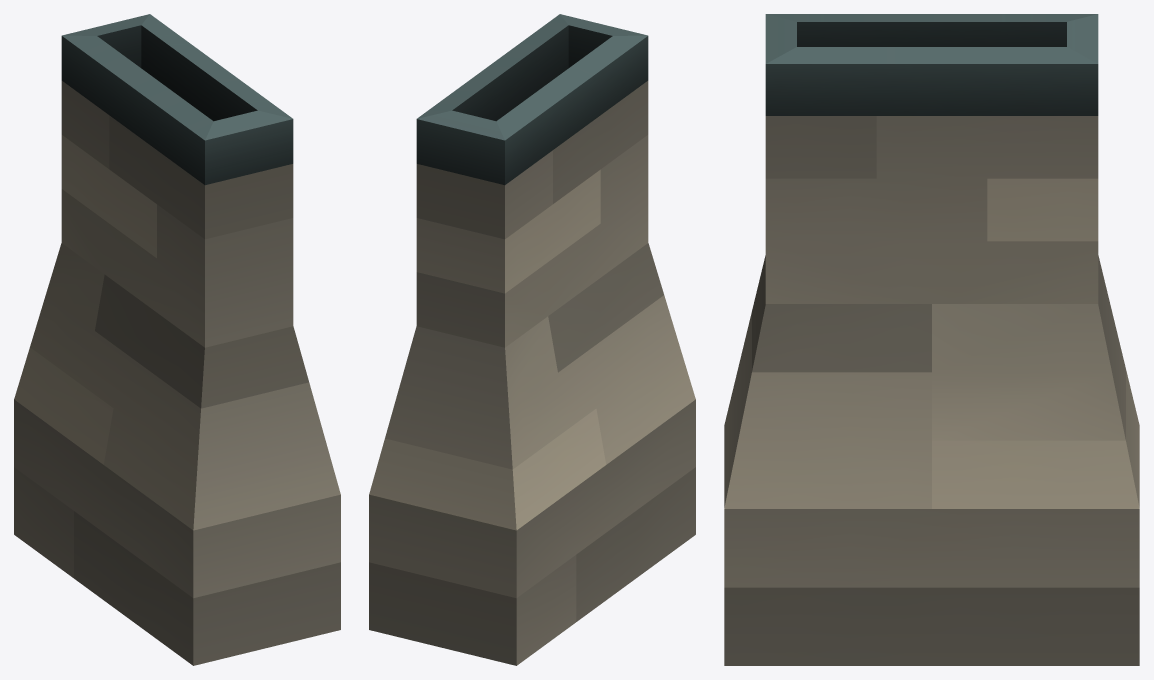
The model's file is TSP_House_Chimney_01A_Top.fbx.
3 renders of one model, left to right at view 1: azimuth 30°, elevation 25°; view 2: azimuth 150°, elevation 25°; view 3: azimuth 270°, elevation 25°, orthographic. The views are drawn at different scales.
Parts seen in each view (by area): view 1: TSP_House_Chimney_01A_Top; view 2: TSP_House_Chimney_01A_Top; view 3: TSP_House_Chimney_01A_Top.
Part boxes in pixels (x1,y1,x2,y2): TSP_House_Chimney_01A_Top: (14,14,340,665); TSP_House_Chimney_01A_Top: (369,14,695,665); TSP_House_Chimney_01A_Top: (724,14,1139,665).
Size of the model in its own units: 0.95 by 3.13 by 2.
